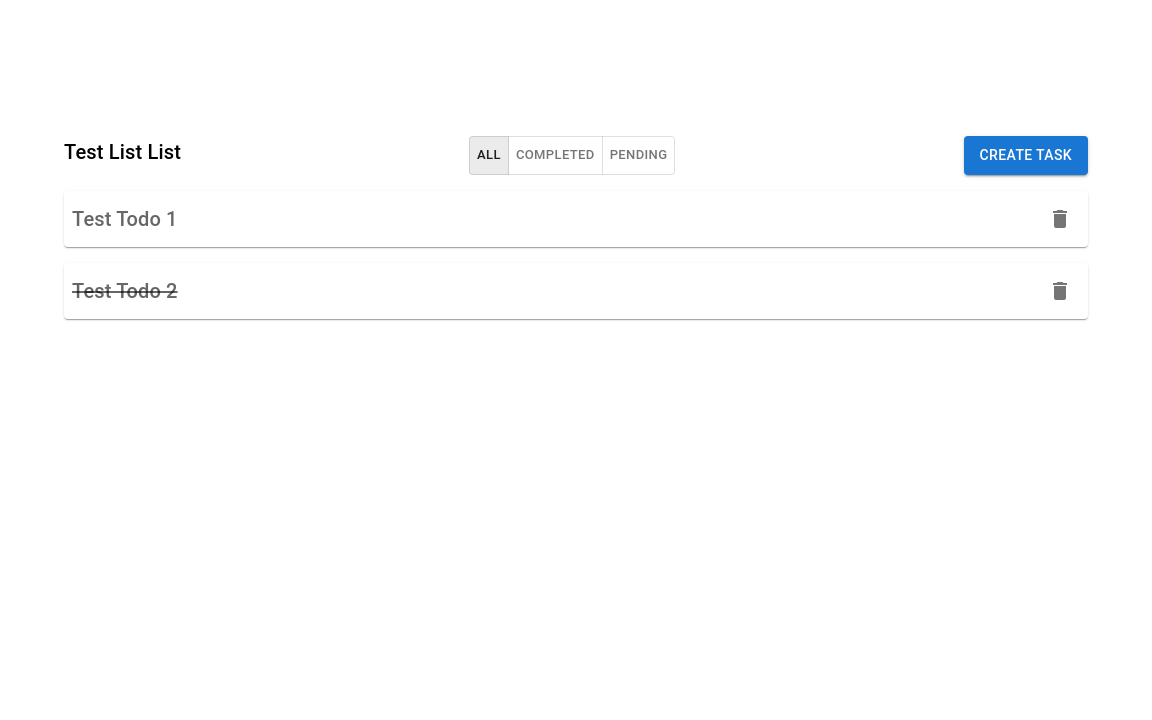
TodoListPage › opens the create/edit list modal on button click
Click the button with test id "add-task-button": click(1026, 155) [964,136,1088,175]
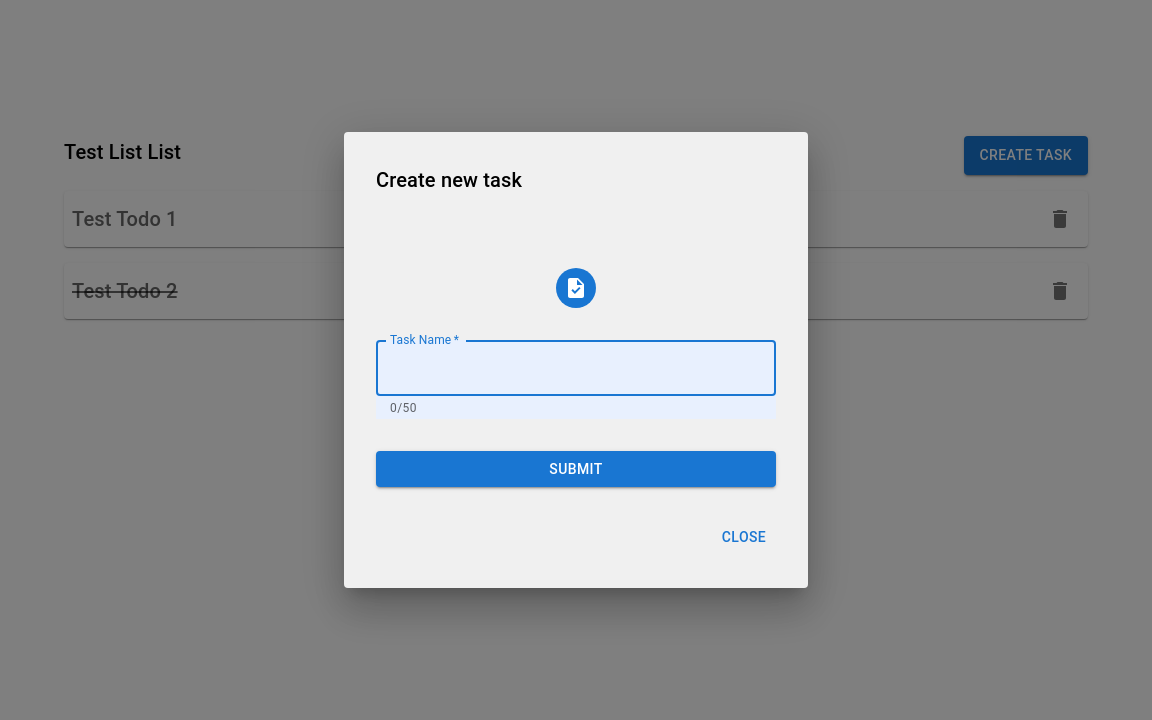
Expected: the element with test id "modal-container" is shown
